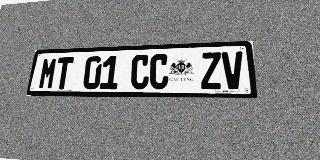0: (82, 56, 103, 89)
1: (100, 55, 120, 89)
C: (130, 54, 150, 89), (149, 54, 169, 89)
M: (38, 57, 58, 89)
T: (54, 57, 74, 89)
V: (221, 51, 245, 89)
Z: (201, 52, 222, 89)
